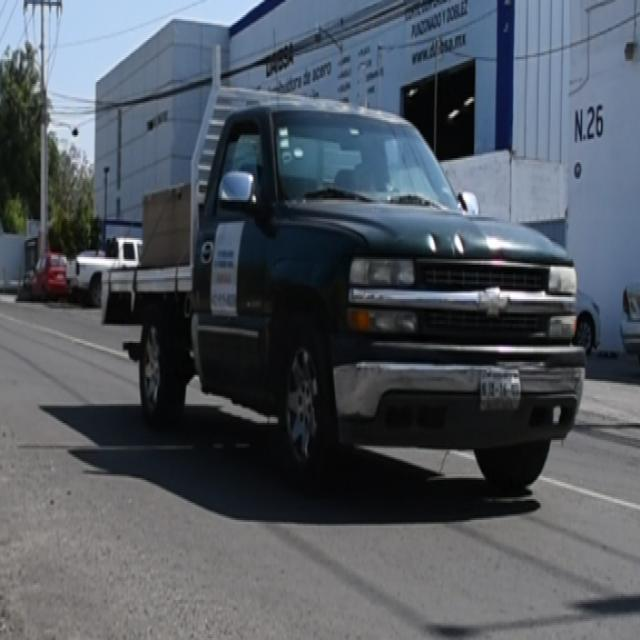placa: (480, 375, 524, 401)
